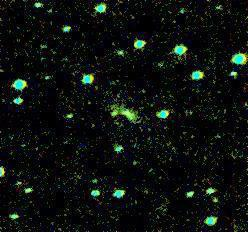star: (199, 187, 229, 217)
